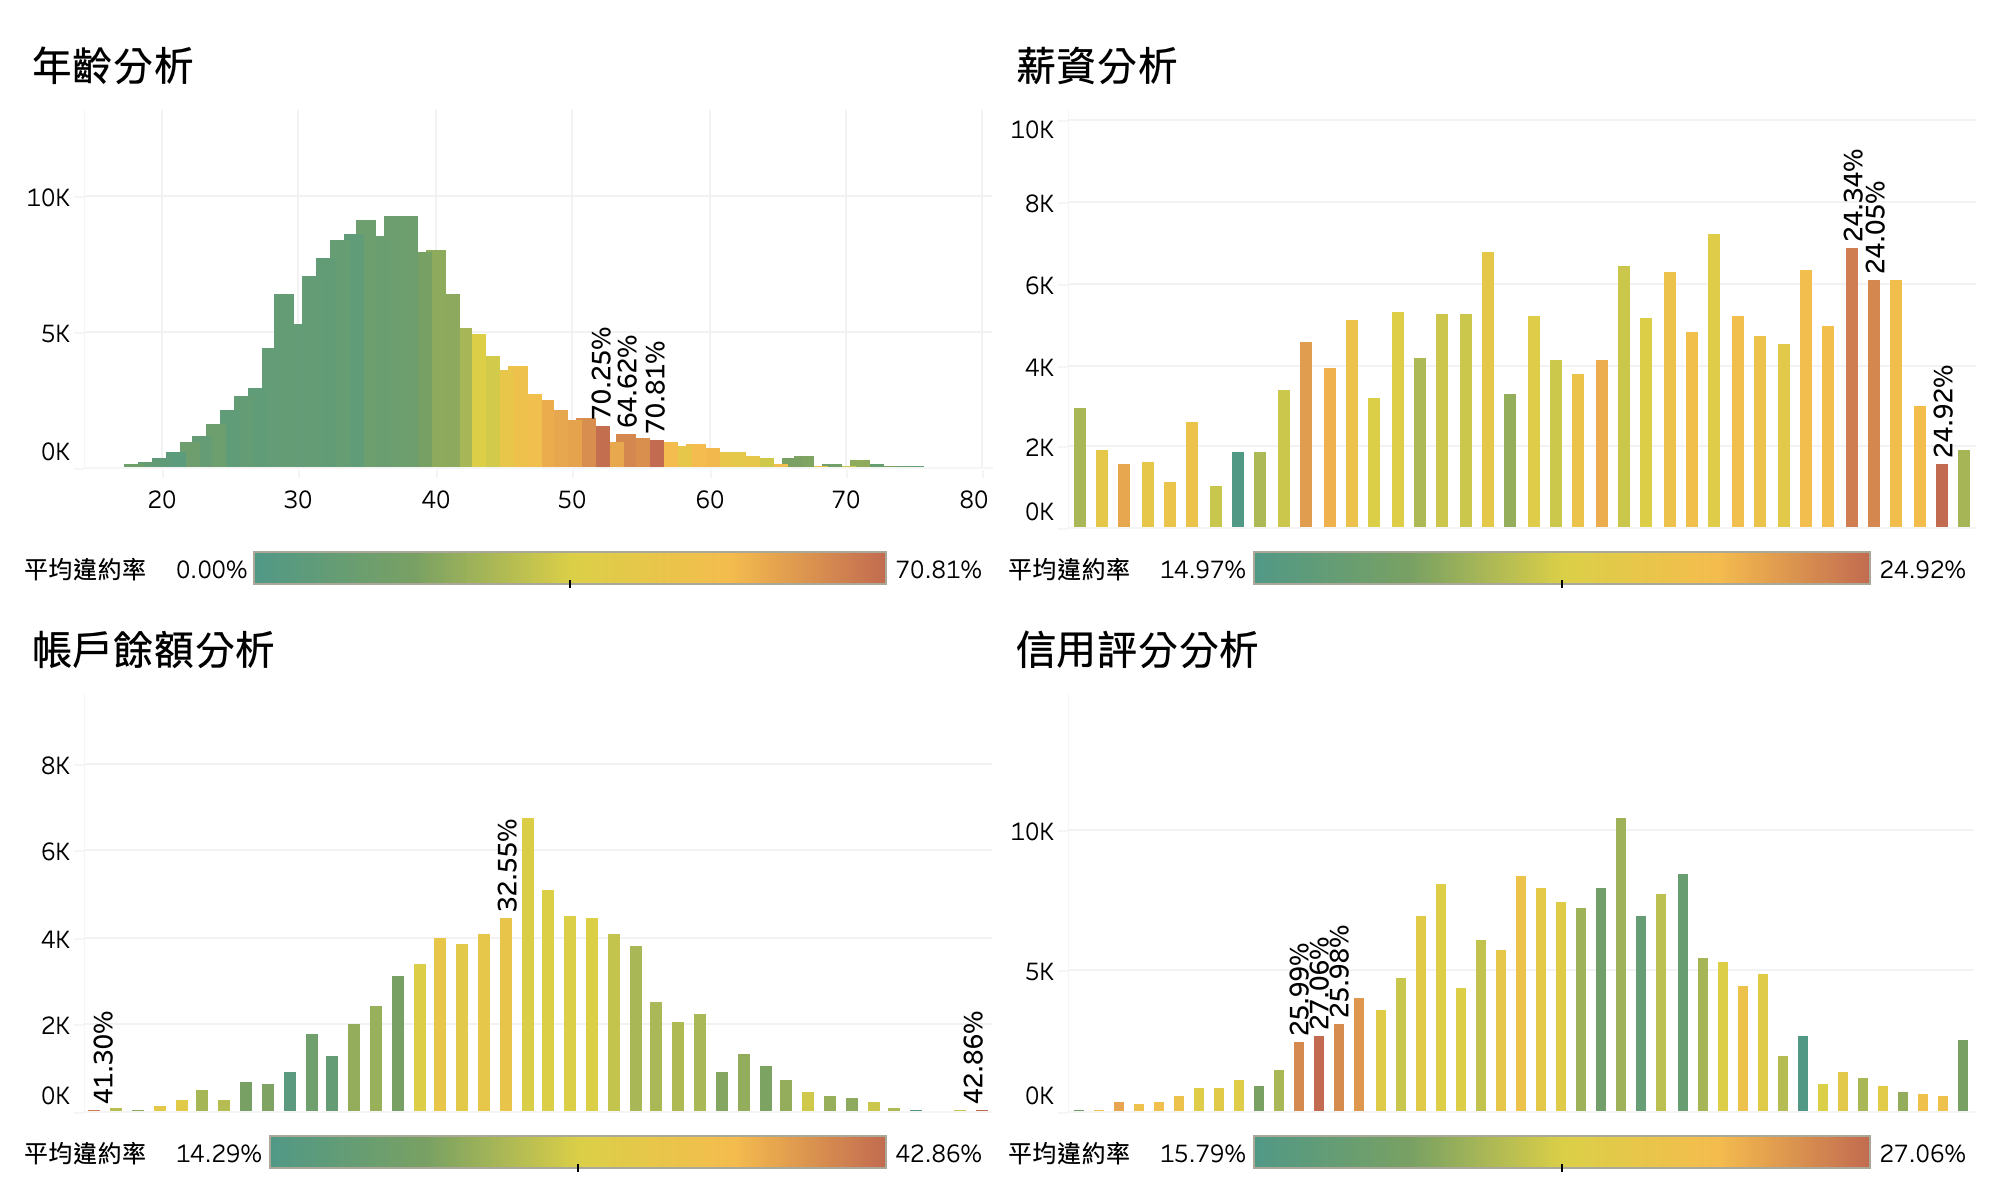

The page's visual inventory and layout, read from the dashboard file:
{"tool":"tableau","page":{"name":"連續型資料分析 ","canvas":[1000,600],"ordinal":1},"visuals":[{"type":"worksheet","title":"年齡分析","mark":"Bar","rows":["Age"],"cols":["Age"],"box":[8,8,492,260]},{"type":"worksheet","title":"薪資分析","mark":"Automatic","rows":["EstimatedSalary"],"cols":["Estimated Salary(資料桶)"],"box":[500,8,492,260]},{"type":"legend","title":"年齡分析","param":"[federated.1xja0wz0z15wzl14sofyg1w1r8ij].[avg:Exited:qk]","box":[8,268,492,32]},{"type":"legend","title":"薪資分析","param":"[federated.1xja0wz0z15wzl14sofyg1w1r8ij].[avg:Exited:qk]","box":[500,268,492,32]},{"type":"worksheet","title":"帳戶餘額分析","mark":"Bar","rows":["Balance"],"cols":["Balance(資料桶)"],"box":[8,300,492,260]},{"type":"worksheet","title":"信用評分分析","mark":"Bar","rows":["CreditScore"],"cols":["Credit Score(資料桶)"],"box":[500,300,492,260]},{"type":"legend","title":"帳戶餘額分析","param":"[federated.1xja0wz0z15wzl14sofyg1w1r8ij].[avg:Exited:qk]","box":[8,560,492,32]},{"type":"legend","title":"信用評分分析","param":"[federated.1xja0wz0z15wzl14sofyg1w1r8ij].[avg:Exited:qk]","box":[500,560,492,32]}]}

Visuals, with their boxes in screenshot pixels (x1, y1, x2, y2), scaled from the page's 1000x600 canvas onto the 2000x1200 screenshot:
"年齡分析" worksheet (Bar marks): <box>16,16,1000,536</box>
"薪資分析" worksheet: <box>1000,16,1984,536</box>
"年齡分析" legend: <box>16,536,1000,600</box>
"薪資分析" legend: <box>1000,536,1984,600</box>
"帳戶餘額分析" worksheet (Bar marks): <box>16,600,1000,1120</box>
"信用評分分析" worksheet (Bar marks): <box>1000,600,1984,1120</box>
"帳戶餘額分析" legend: <box>16,1120,1000,1184</box>
"信用評分分析" legend: <box>1000,1120,1984,1184</box>
